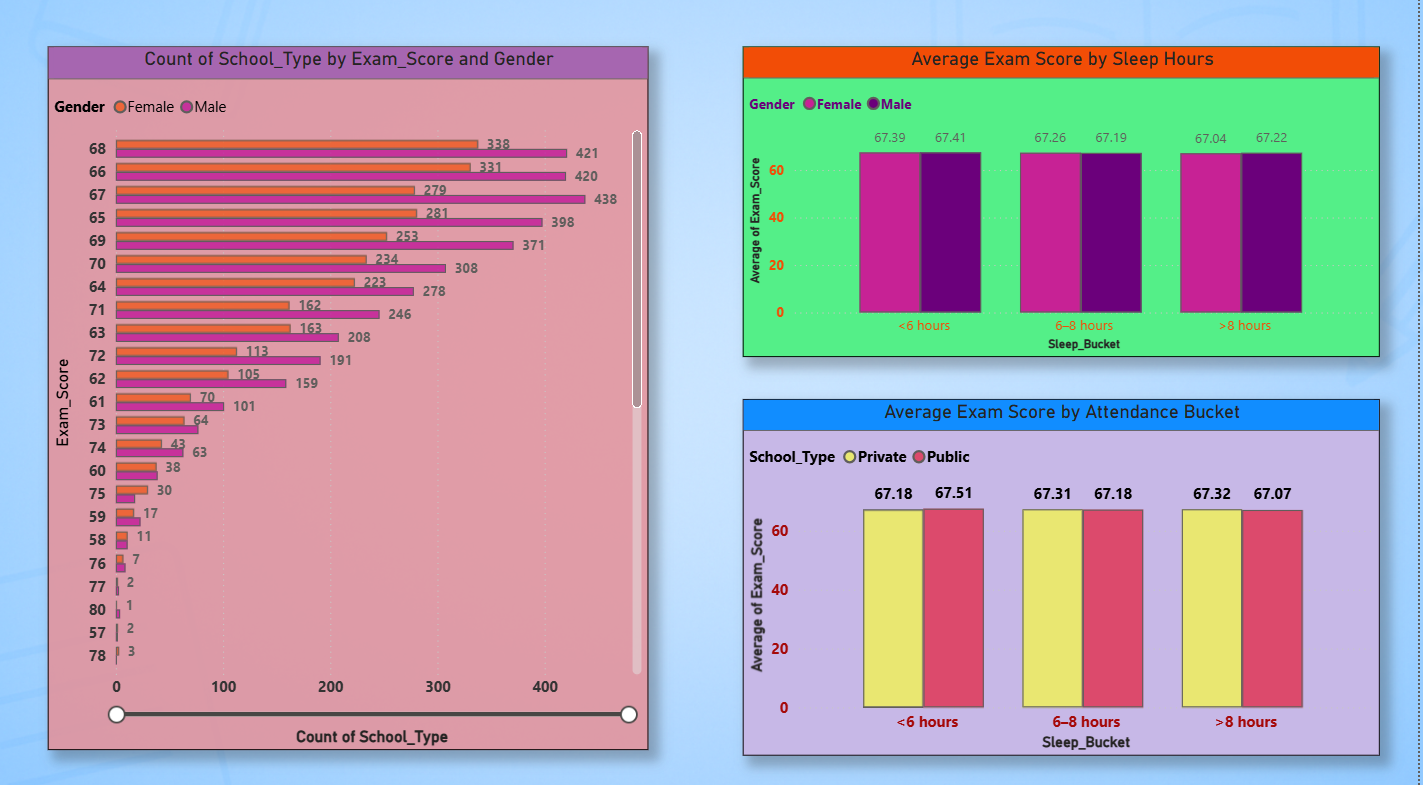

What the dashboard file says about the page in this screenshot:
{"tool":"powerbi","page":{"name":"Page 2","canvas":[1280,720],"ordinal":1},"visuals":[{"type":"clusteredBarChart","fields":{"Y":["CountNonNull(StudentPerformanceFactors.School_Type)"],"Category":["StudentPerformanceFactors.Exam_Score"],"Series":["StudentPerformanceFactors.Gender"]},"box":[44,51.4,541.7,634.7],"z":0},{"type":"clusteredColumnChart","title":"Average Exam Score by Attendance Bucket","fields":{"Category":["StudentPerformanceFactors.Attendance_Sort"],"Y":["Avg(StudentPerformanceFactors.Exam_Score)"],"Series":["StudentPerformanceFactors.School_Type"]},"box":[670.1,369.3,574.7,321.6],"z":1000},{"type":"clusteredColumnChart","title":"Average Exam Score by Sleep Hours","fields":{"Y":["Avg(StudentPerformanceFactors.Exam_Score)"],"Category":["StudentPerformanceFactors.Sleep_Bucket"],"Series":["StudentPerformanceFactors.Gender"]},"box":[670.1,51.4,574.7,280],"z":2000}]}

Visuals, with their boxes in screenshot pixels (x1, y1, x2, y2), scaled from the page's 1280x720 canvas onto the 1423x785 screenshot:
clusteredBarChart - CountNonNull(StudentPerformanceFactors.School_Type) x StudentPerformanceFactors.Exam_Score: bbox(49, 56, 651, 748)
"Average Exam Score by Attendance Bucket" clusteredColumnChart: bbox(745, 403, 1384, 753)
"Average Exam Score by Sleep Hours" clusteredColumnChart: bbox(745, 56, 1384, 361)
